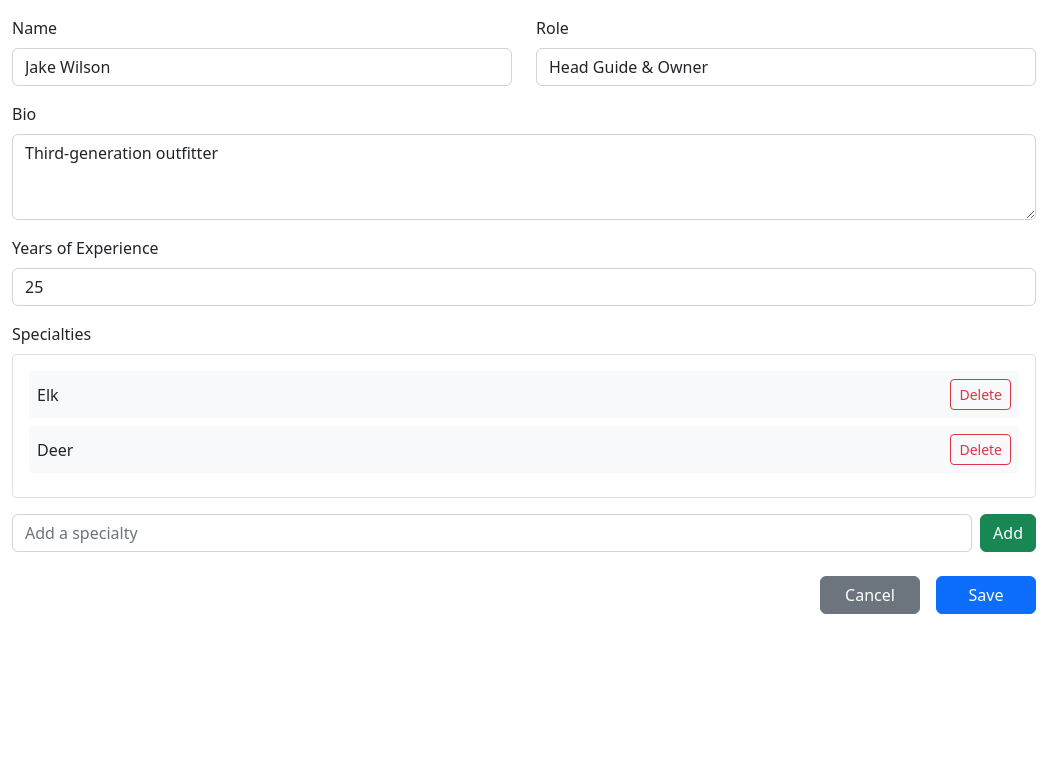
Test: GuideForm › should show validation error when name is empty
Clear the field labelled "Name". click: coordinates (262, 67)
box: [12,48,512,86]
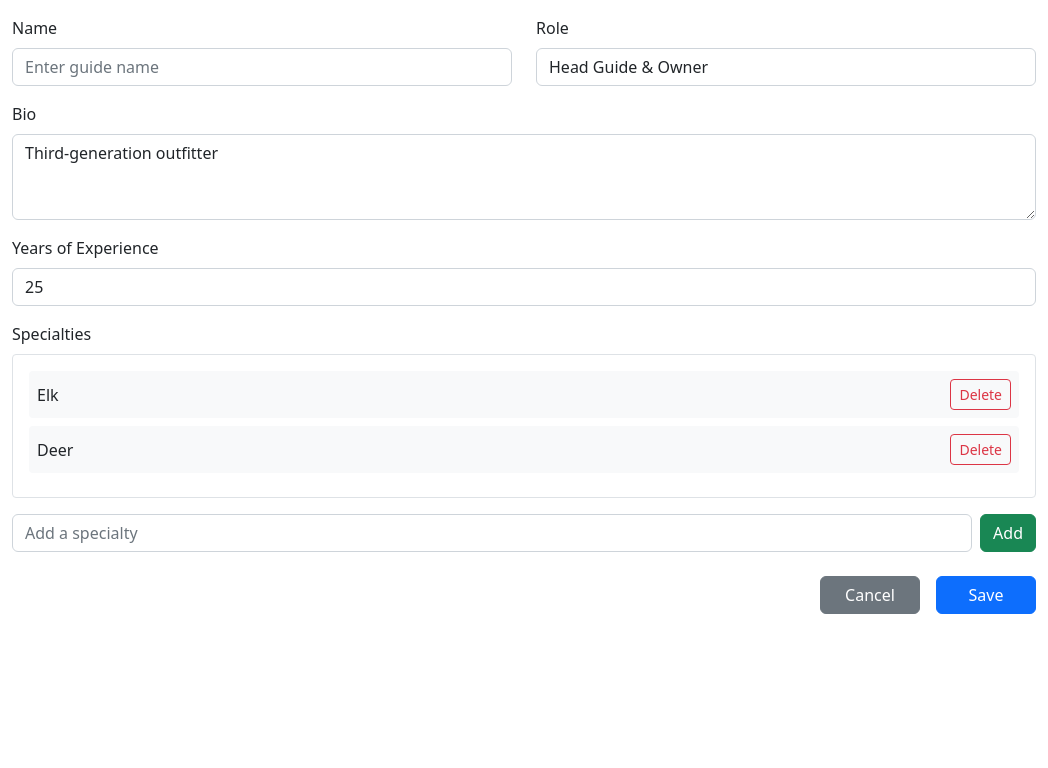
Click the button "Save". click: coordinates (986, 595)
box: [936,576,1036,614]
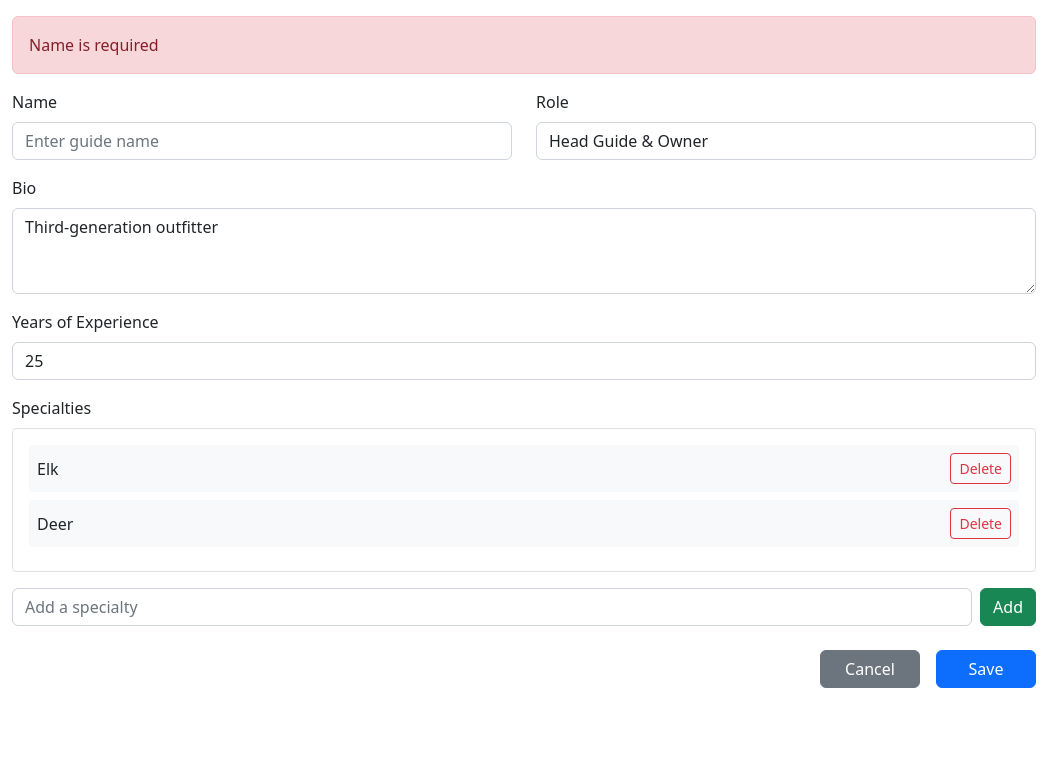
Expected: the text "Name is required" is shown, [12,16,1036,74]
